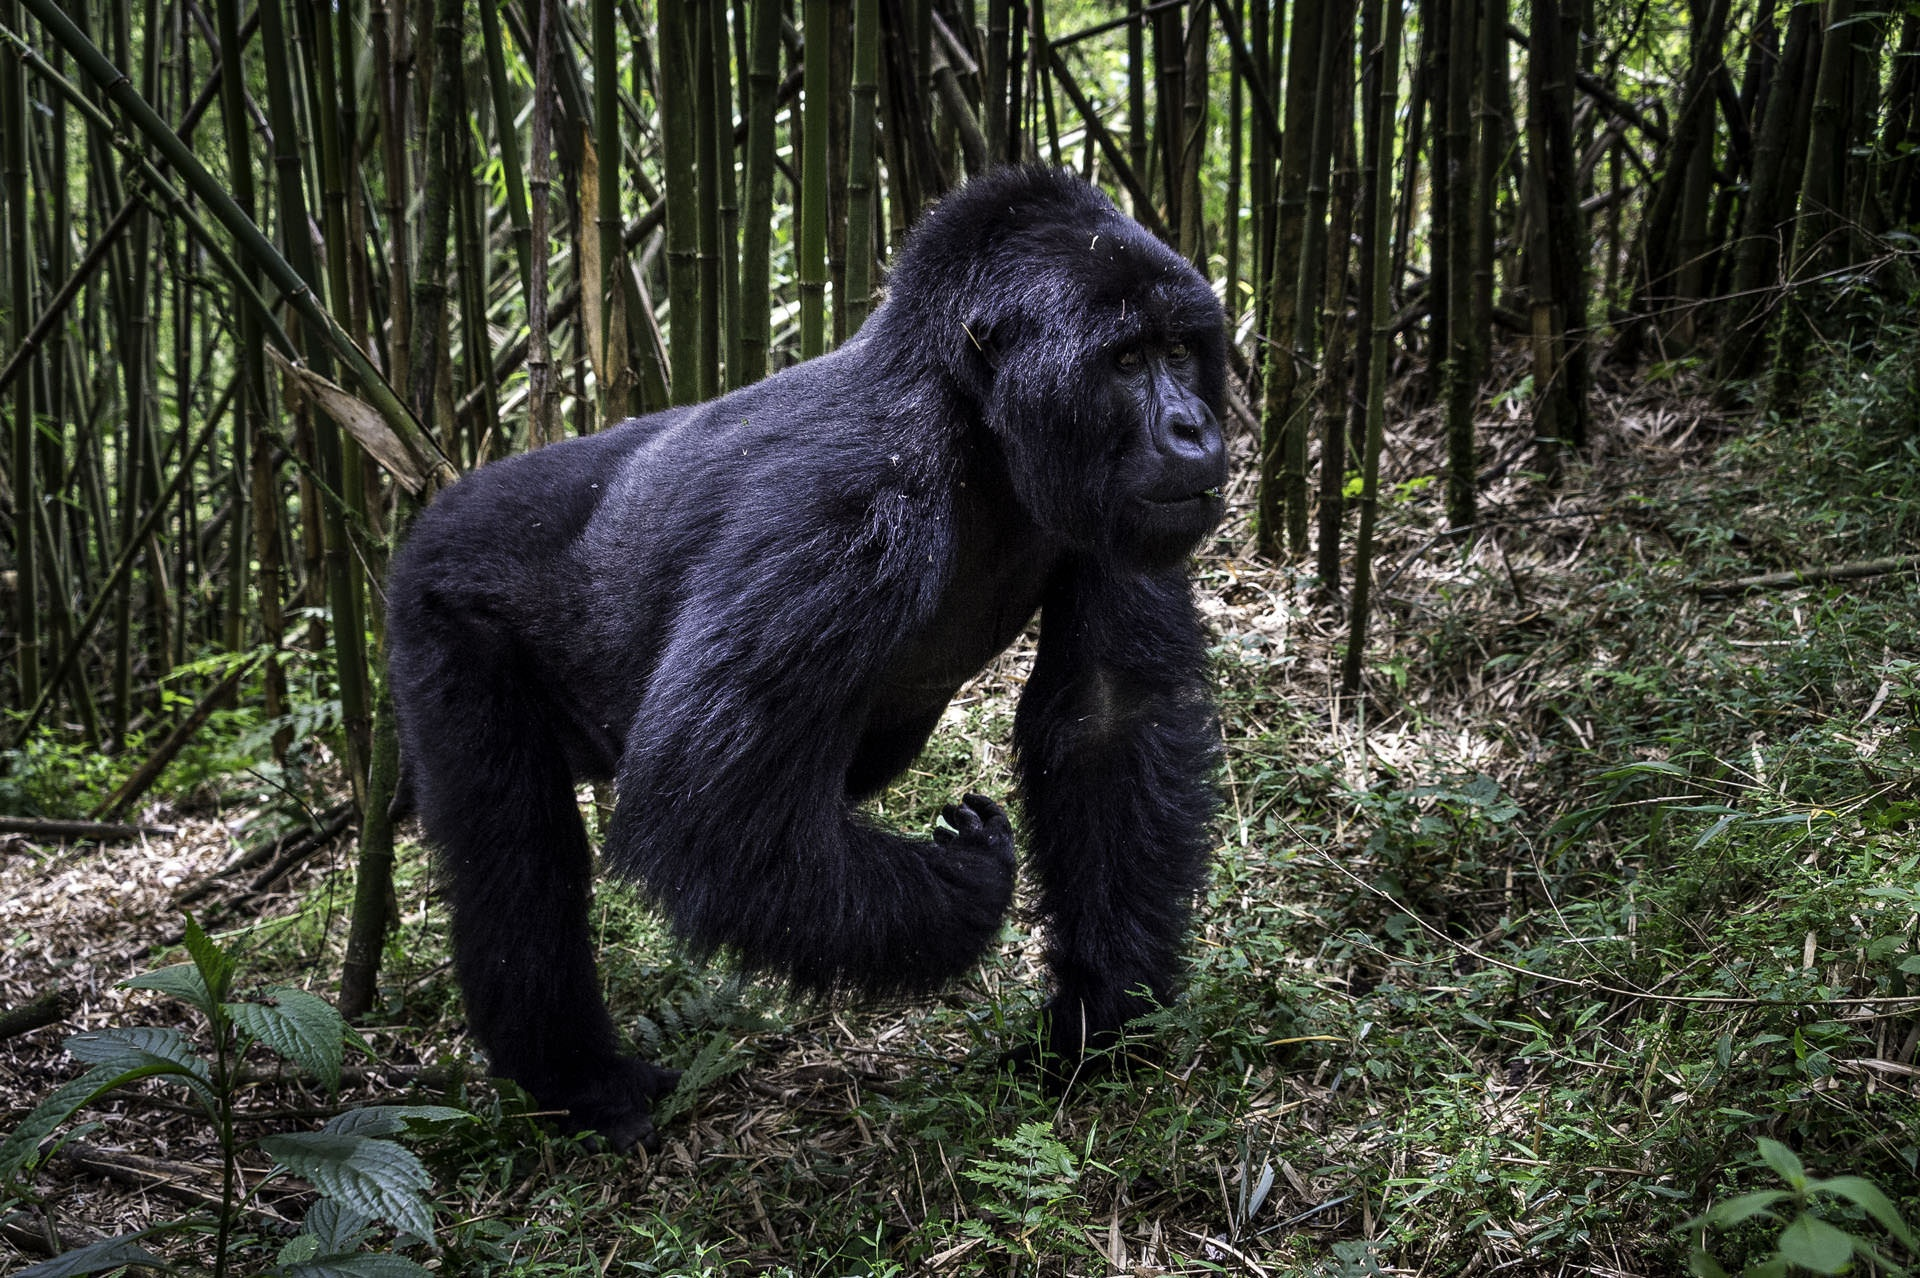gorilla: (372, 148, 1237, 1150)
